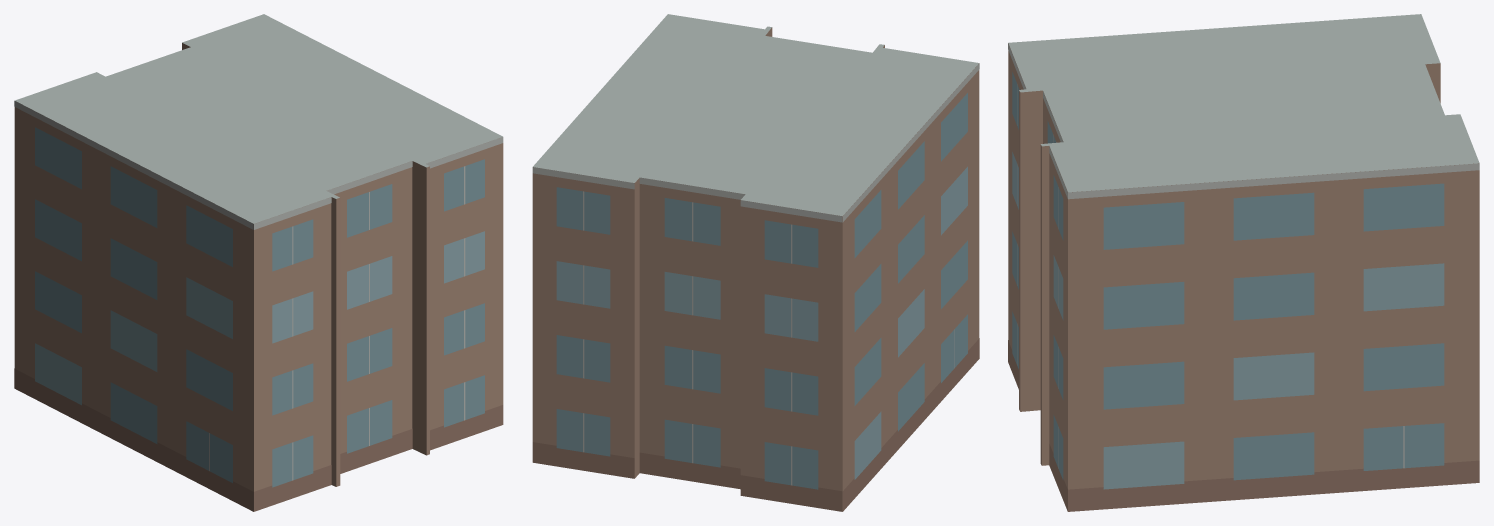
File: survey-upis-32526414.glb
3 views of the same model, side by side, from view 1: azimuth 30°, elevation 25°; view 2: azimuth 150°, elevation 25°; view 3: azimuth 270°, elevation 25° (orthographic). The views are drawn at different scales.
Visible parts, largest first — view 1: survey-upis-32526414.tmp; view 2: survey-upis-32526414.tmp; view 3: survey-upis-32526414.tmp.
Part boxes in pixels (box(x1,y1,x2,y2)): survey-upis-32526414.tmp: box(14, 14, 503, 511); survey-upis-32526414.tmp: box(532, 14, 979, 511); survey-upis-32526414.tmp: box(1008, 14, 1479, 511).
Bounding box in the file's own units: 13.6 × 11.35 × 15.19.
